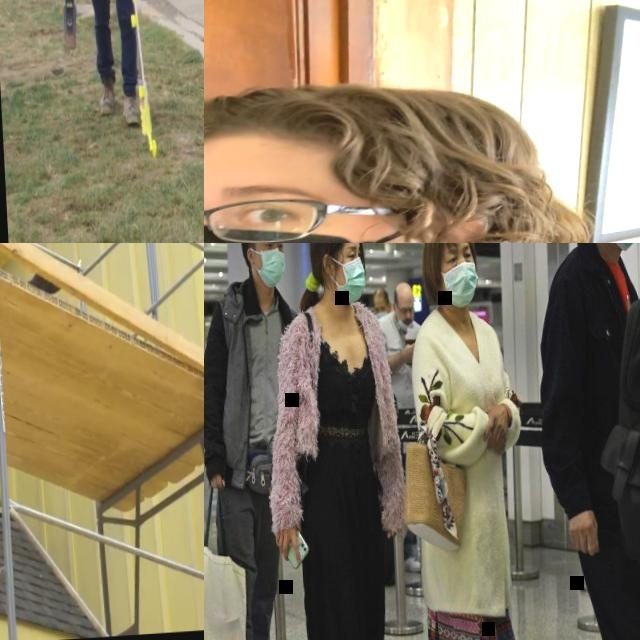Mask: (442, 263, 480, 311), (336, 258, 367, 307), (258, 248, 287, 290), (396, 320, 410, 333), (375, 311, 388, 320)
NO-Hardhat: (204, 72, 523, 191), (393, 282, 415, 304), (373, 289, 390, 303)
NO-Safety Vest: (552, 259, 640, 516), (419, 314, 505, 509), (295, 307, 381, 475), (228, 293, 299, 467), (382, 318, 423, 407)
Person: (204, 60, 640, 243), (258, 243, 408, 640), (403, 243, 541, 640), (204, 243, 318, 640), (530, 243, 640, 640), (55, 0, 154, 129), (380, 282, 424, 410), (371, 286, 392, 322)
